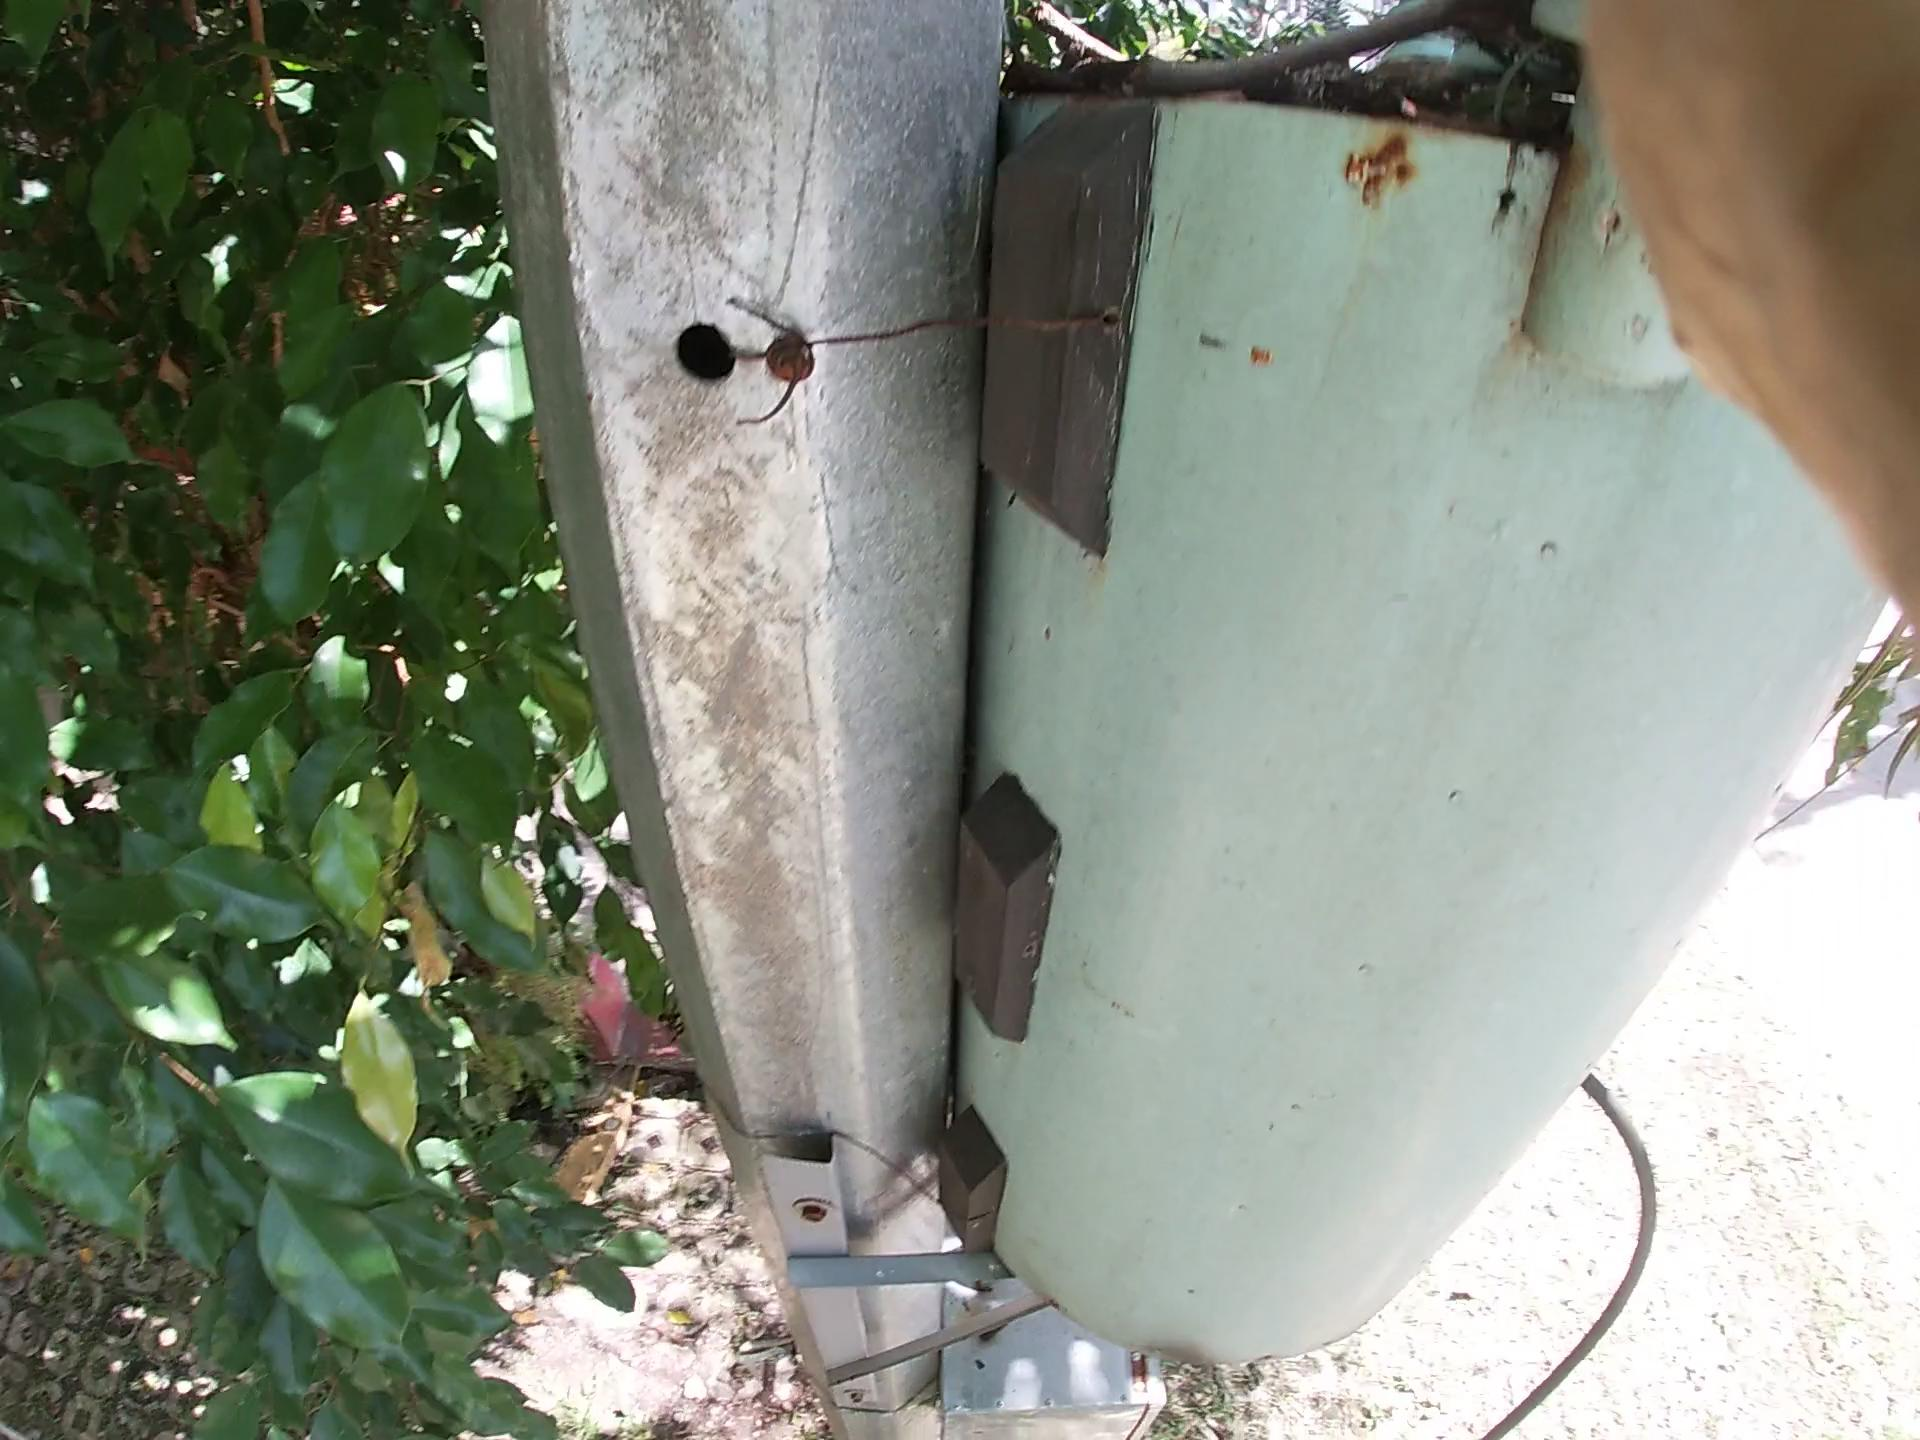tree branch: (1020, 44, 1473, 138)
